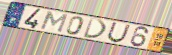0: (66, 16, 86, 36)
4: (23, 8, 42, 30)
6: (129, 26, 149, 48)
D: (82, 17, 108, 40)
M: (39, 10, 70, 34)
U: (106, 22, 131, 44)
